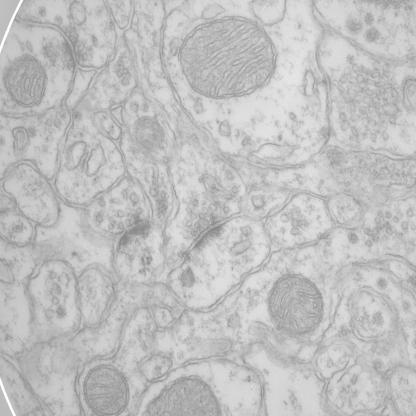mitochondria: (172, 13, 284, 110), (264, 269, 324, 338), (0, 50, 49, 112), (78, 361, 133, 416)
